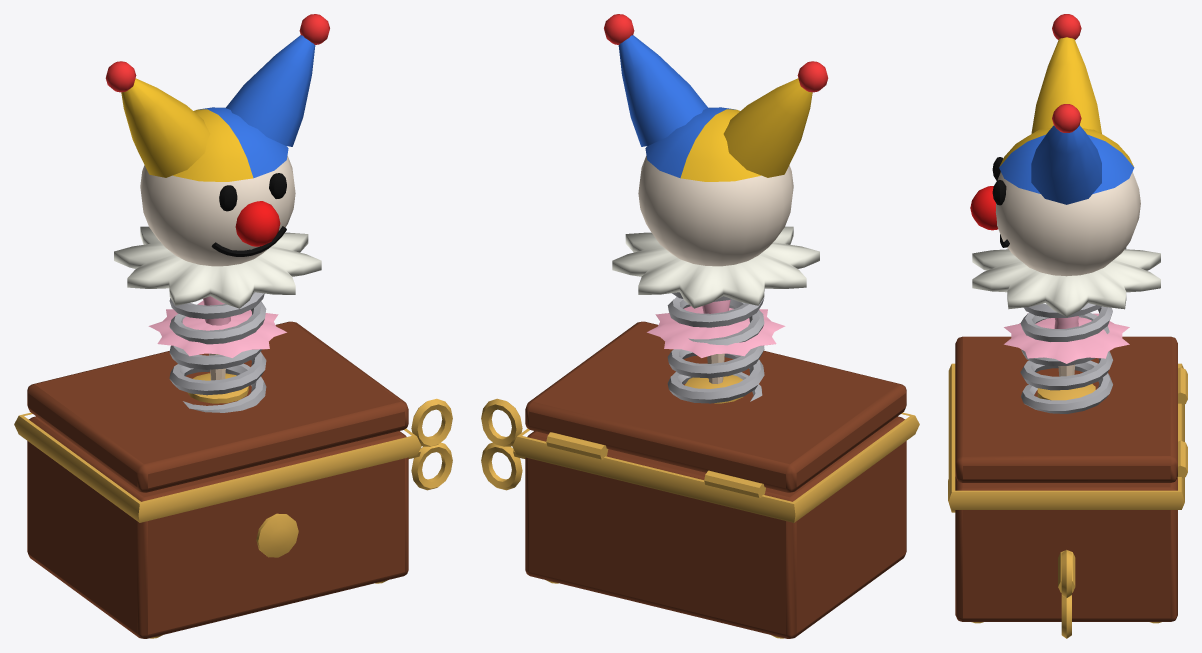
The model's file is music_box.glb.
The picture shows the model from 3 angles, left to right: view 1: azimuth 30°, elevation 25°; view 2: azimuth 150°, elevation 25°; view 3: azimuth 270°, elevation 25°; orthographic projection. The views are drawn at different scales.
Parts seen in each view (by area): view 1: Kasten, Deckel_Holz, Kasten_Gold, Teufel_Gesicht, Teufel_Kappe_Gelb, Teufel_Kragen, Teufel_Kappe_Blau, Teufel_Feder, Taenzerin_Kleid, Key_Gold, Teufel_Nase, Teufel_Bommel (+2 smaller); view 2: Kasten, Deckel_Holz, Teufel_Gesicht, Teufel_Kragen, Teufel_Kappe_Gelb, Kasten_Gold, Teufel_Kappe_Blau, Teufel_Feder, Taenzerin_Kleid, Key_Gold, Deckel_Scharnier, Teufel_Bommel; view 3: Deckel_Holz, Kasten, Teufel_Gesicht, Teufel_Kragen, Teufel_Kappe_Blau, Kasten_Gold, Teufel_Feder, Teufel_Kappe_Gelb, Taenzerin_Kleid, Teufel_Bommel, Key_Gold, Teufel_Nase (+3 smaller).
Boxes of the visible parts, bbox=[...] form: Kasten: bbox=[27, 416, 408, 638]; Deckel_Holz: bbox=[27, 321, 408, 492]; Kasten_Gold: bbox=[14, 412, 421, 638]; Teufel_Gesicht: bbox=[140, 155, 295, 266]; Teufel_Kappe_Gelb: bbox=[121, 78, 253, 181]; Teufel_Kragen: bbox=[114, 226, 321, 308]; Teufel_Kappe_Blau: bbox=[198, 35, 315, 178]; Teufel_Feder: bbox=[169, 292, 266, 412]; Taenzerin_Kleid: bbox=[148, 296, 286, 357]; Key_Gold: bbox=[408, 398, 452, 490]; Teufel_Nase: bbox=[235, 201, 280, 246]; Teufel_Bommel: bbox=[105, 14, 329, 92]; Kasten: bbox=[525, 416, 906, 638]; Deckel_Holz: bbox=[525, 321, 906, 492]; Teufel_Gesicht: bbox=[638, 155, 793, 266]; Teufel_Kragen: bbox=[612, 226, 819, 308]; Teufel_Kappe_Gelb: bbox=[680, 78, 812, 181]; Kasten_Gold: bbox=[512, 412, 919, 638]; Teufel_Kappe_Blau: bbox=[618, 35, 735, 178]; Teufel_Feder: bbox=[667, 292, 764, 403]; Taenzerin_Kleid: bbox=[647, 299, 785, 357]; Key_Gold: bbox=[481, 398, 525, 490]; Deckel_Scharnier: bbox=[546, 432, 765, 497]; Teufel_Bommel: bbox=[604, 14, 828, 92]; Deckel_Holz: bbox=[955, 336, 1177, 482]; Kasten: bbox=[955, 476, 1177, 621]; Teufel_Gesicht: bbox=[995, 172, 1140, 276]; Teufel_Kragen: bbox=[972, 247, 1160, 316]; Teufel_Kappe_Blau: bbox=[999, 125, 1134, 204]; Kasten_Gold: bbox=[948, 363, 1184, 623]; Teufel_Feder: bbox=[1020, 303, 1112, 413]; Teufel_Kappe_Gelb: bbox=[999, 37, 1133, 166]; Taenzerin_Kleid: bbox=[1004, 313, 1129, 363]; Teufel_Bommel: bbox=[1052, 14, 1081, 132]; Key_Gold: bbox=[1058, 550, 1075, 638]; Teufel_Nase: bbox=[970, 186, 997, 230].
Bounding box in the file's own units: 0.167 × 0.227 × 0.097.
